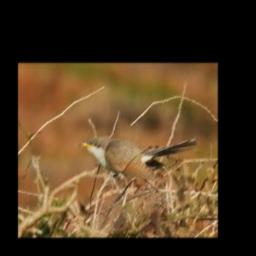Cuckoo: (77, 137, 197, 180)
